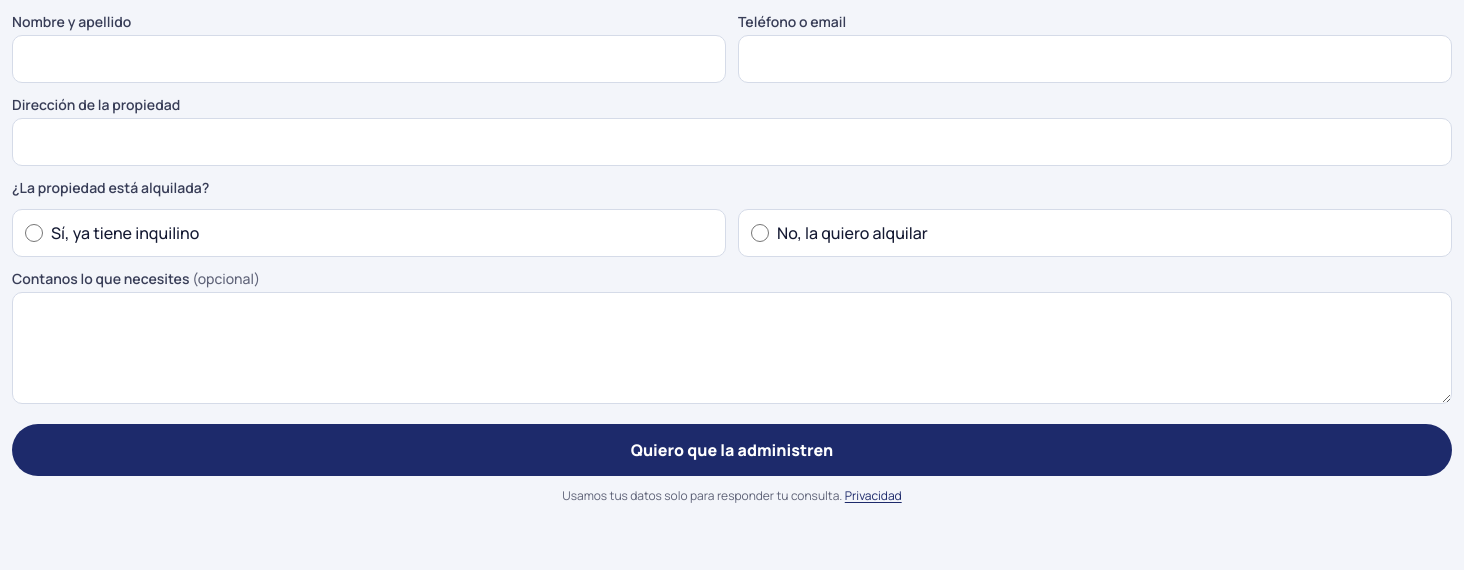
Test case: RentalManagementForm › shows errors next to the fields and keeps what was typed
The width and height of the screenshot is (1464, 570).
Type "Ana" into the field labelled "Nombre y apellido" at (369, 59), box [12,35,726,83]
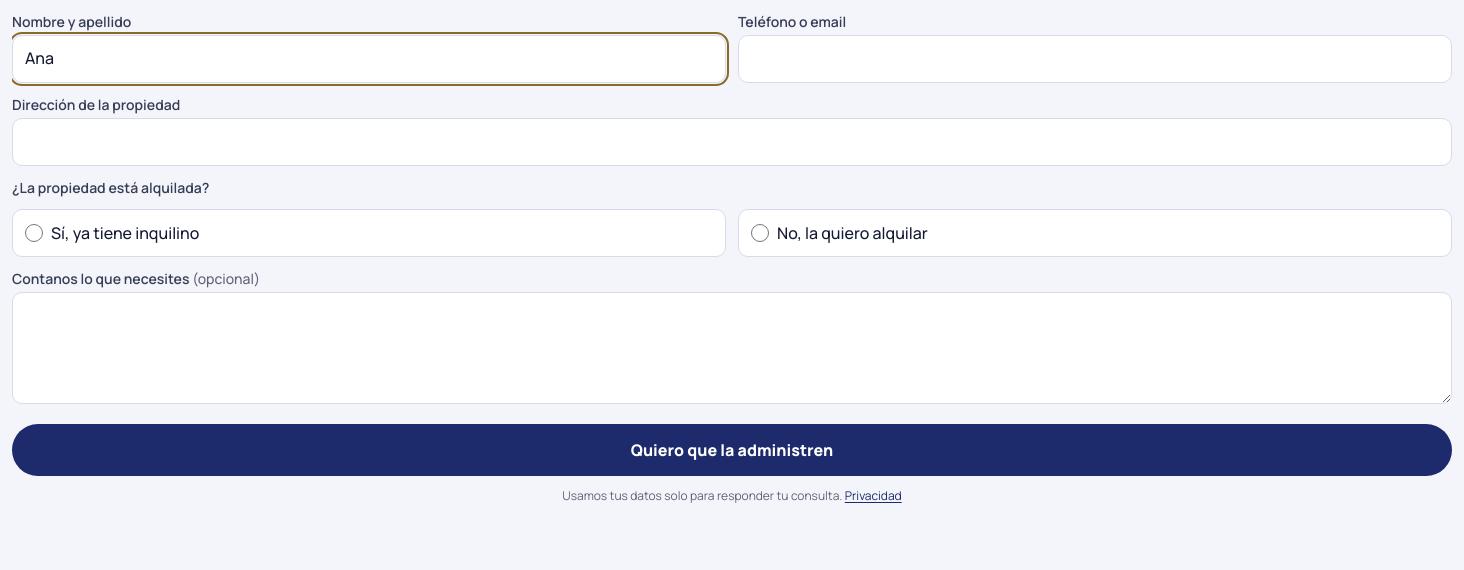
Type "11 3896-7363" into the field labelled "Teléfono o email" at (1095, 59), box [738,35,1452,83]
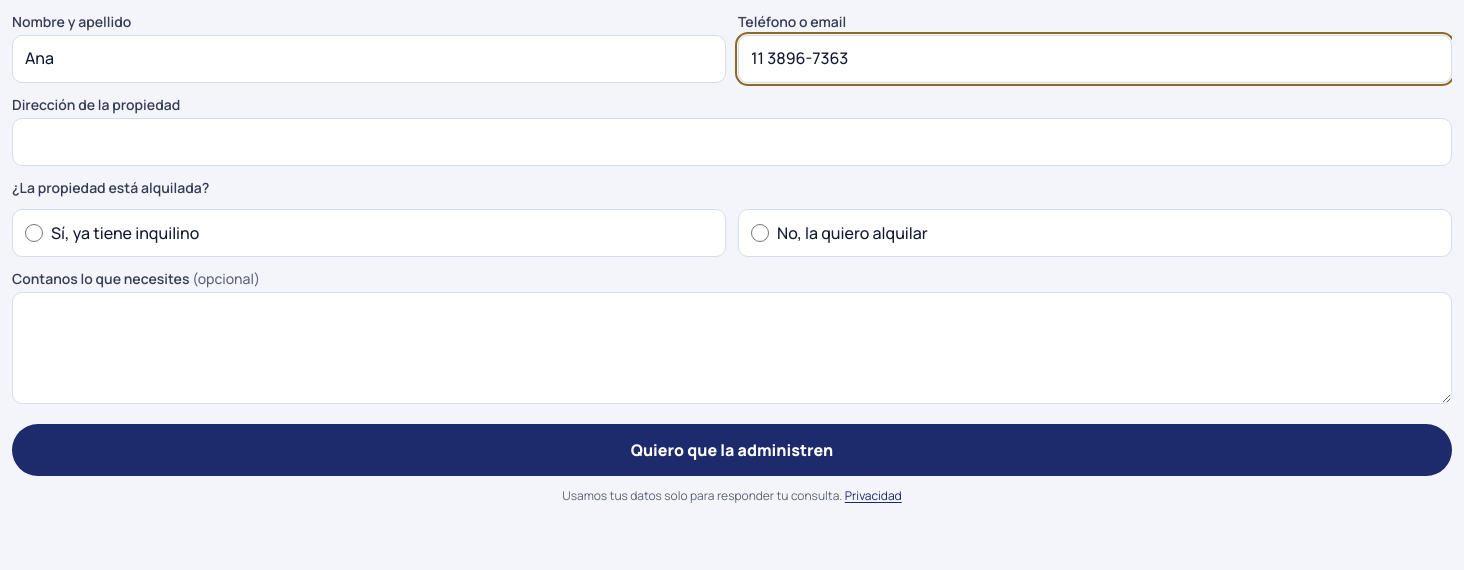
Type "x" into the field labelled "Dirección de la propiedad" at (732, 142), box [12,118,1452,166]
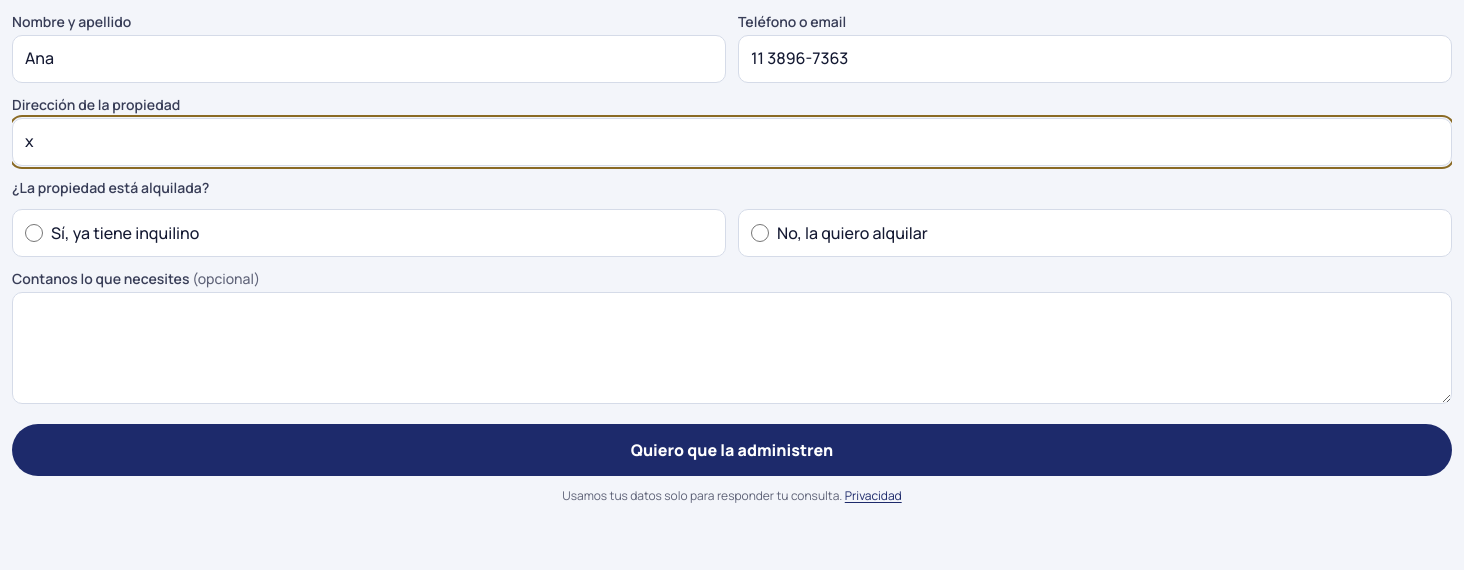
Click the radio button labelled "Sí, ya tiene inquilino" at (34, 233), box [25,224,43,242]
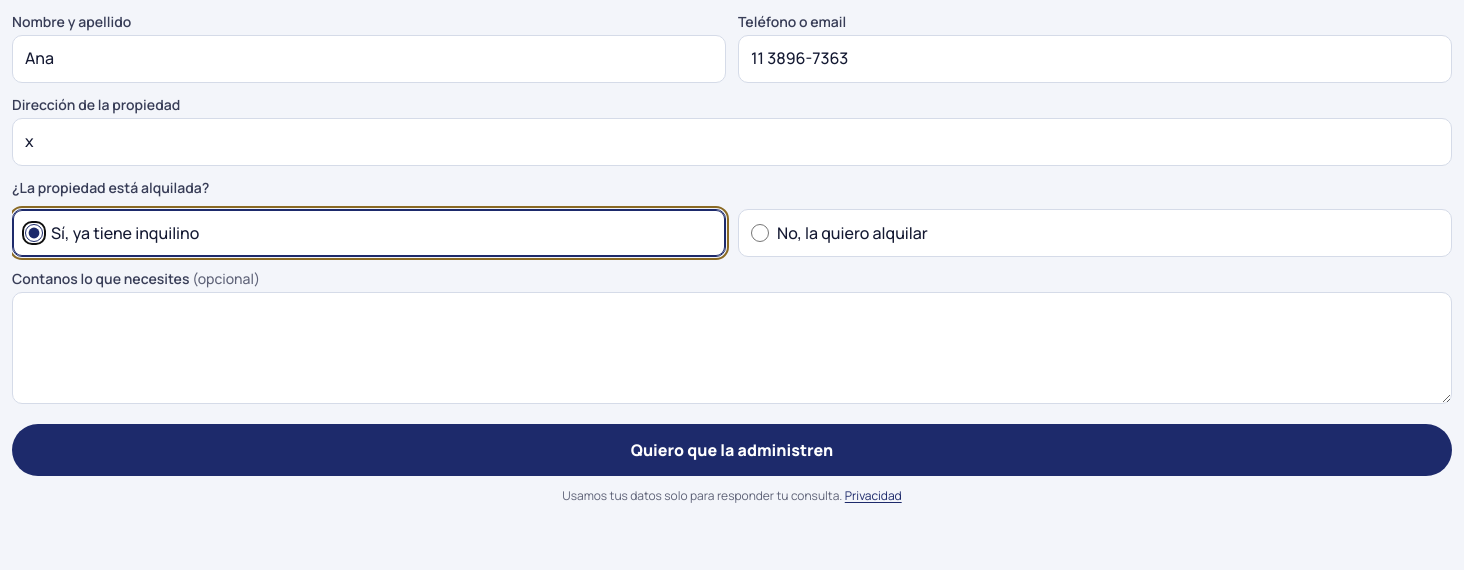
Click the button "Quiero que la administren" at (732, 450), box [12,424,1452,476]
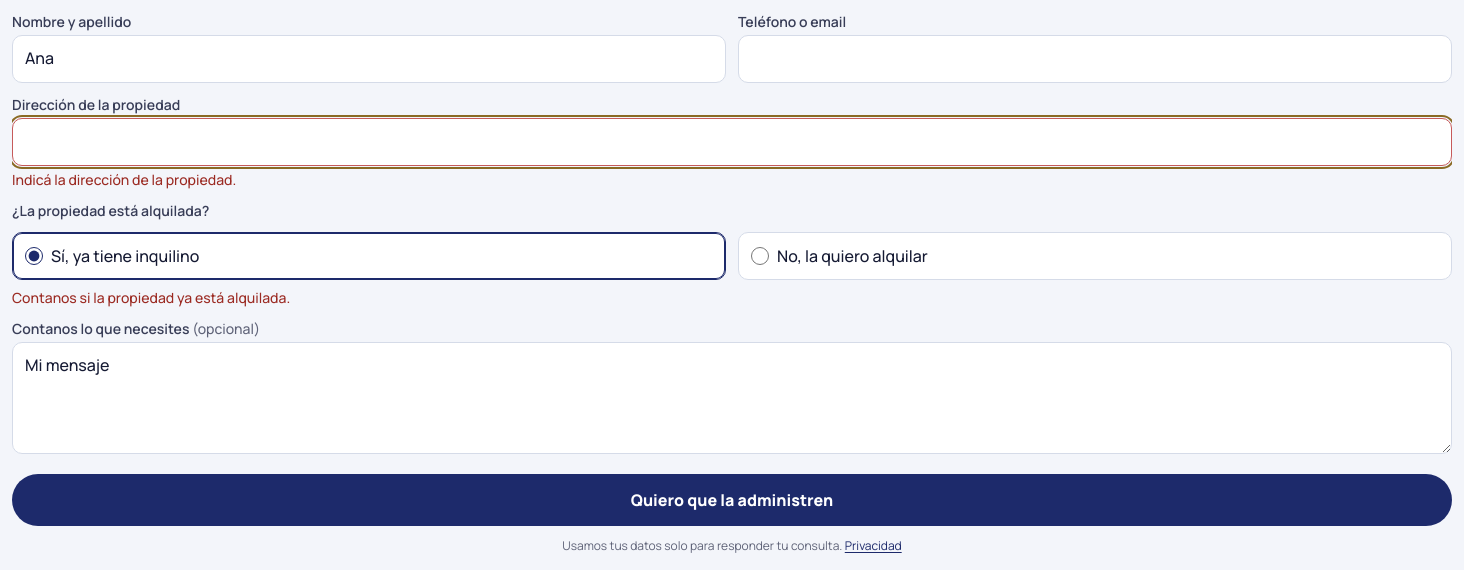
Expected: the field labelled "Nombre y apellido" holds "Ana", [12,35,726,83]
Expected: the text "Indicá la dirección de la propiedad." is shown, [12,170,236,189]
Expected: the text "Contanos si la propiedad ya está alquilada." is shown, [12,288,290,307]
